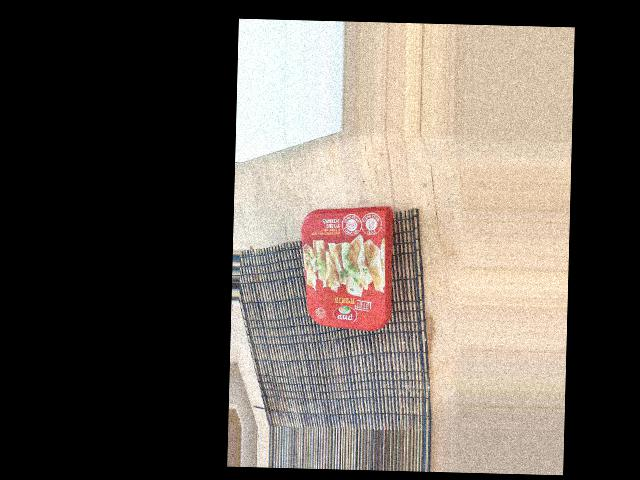cheese: (221, 285, 366, 371)
